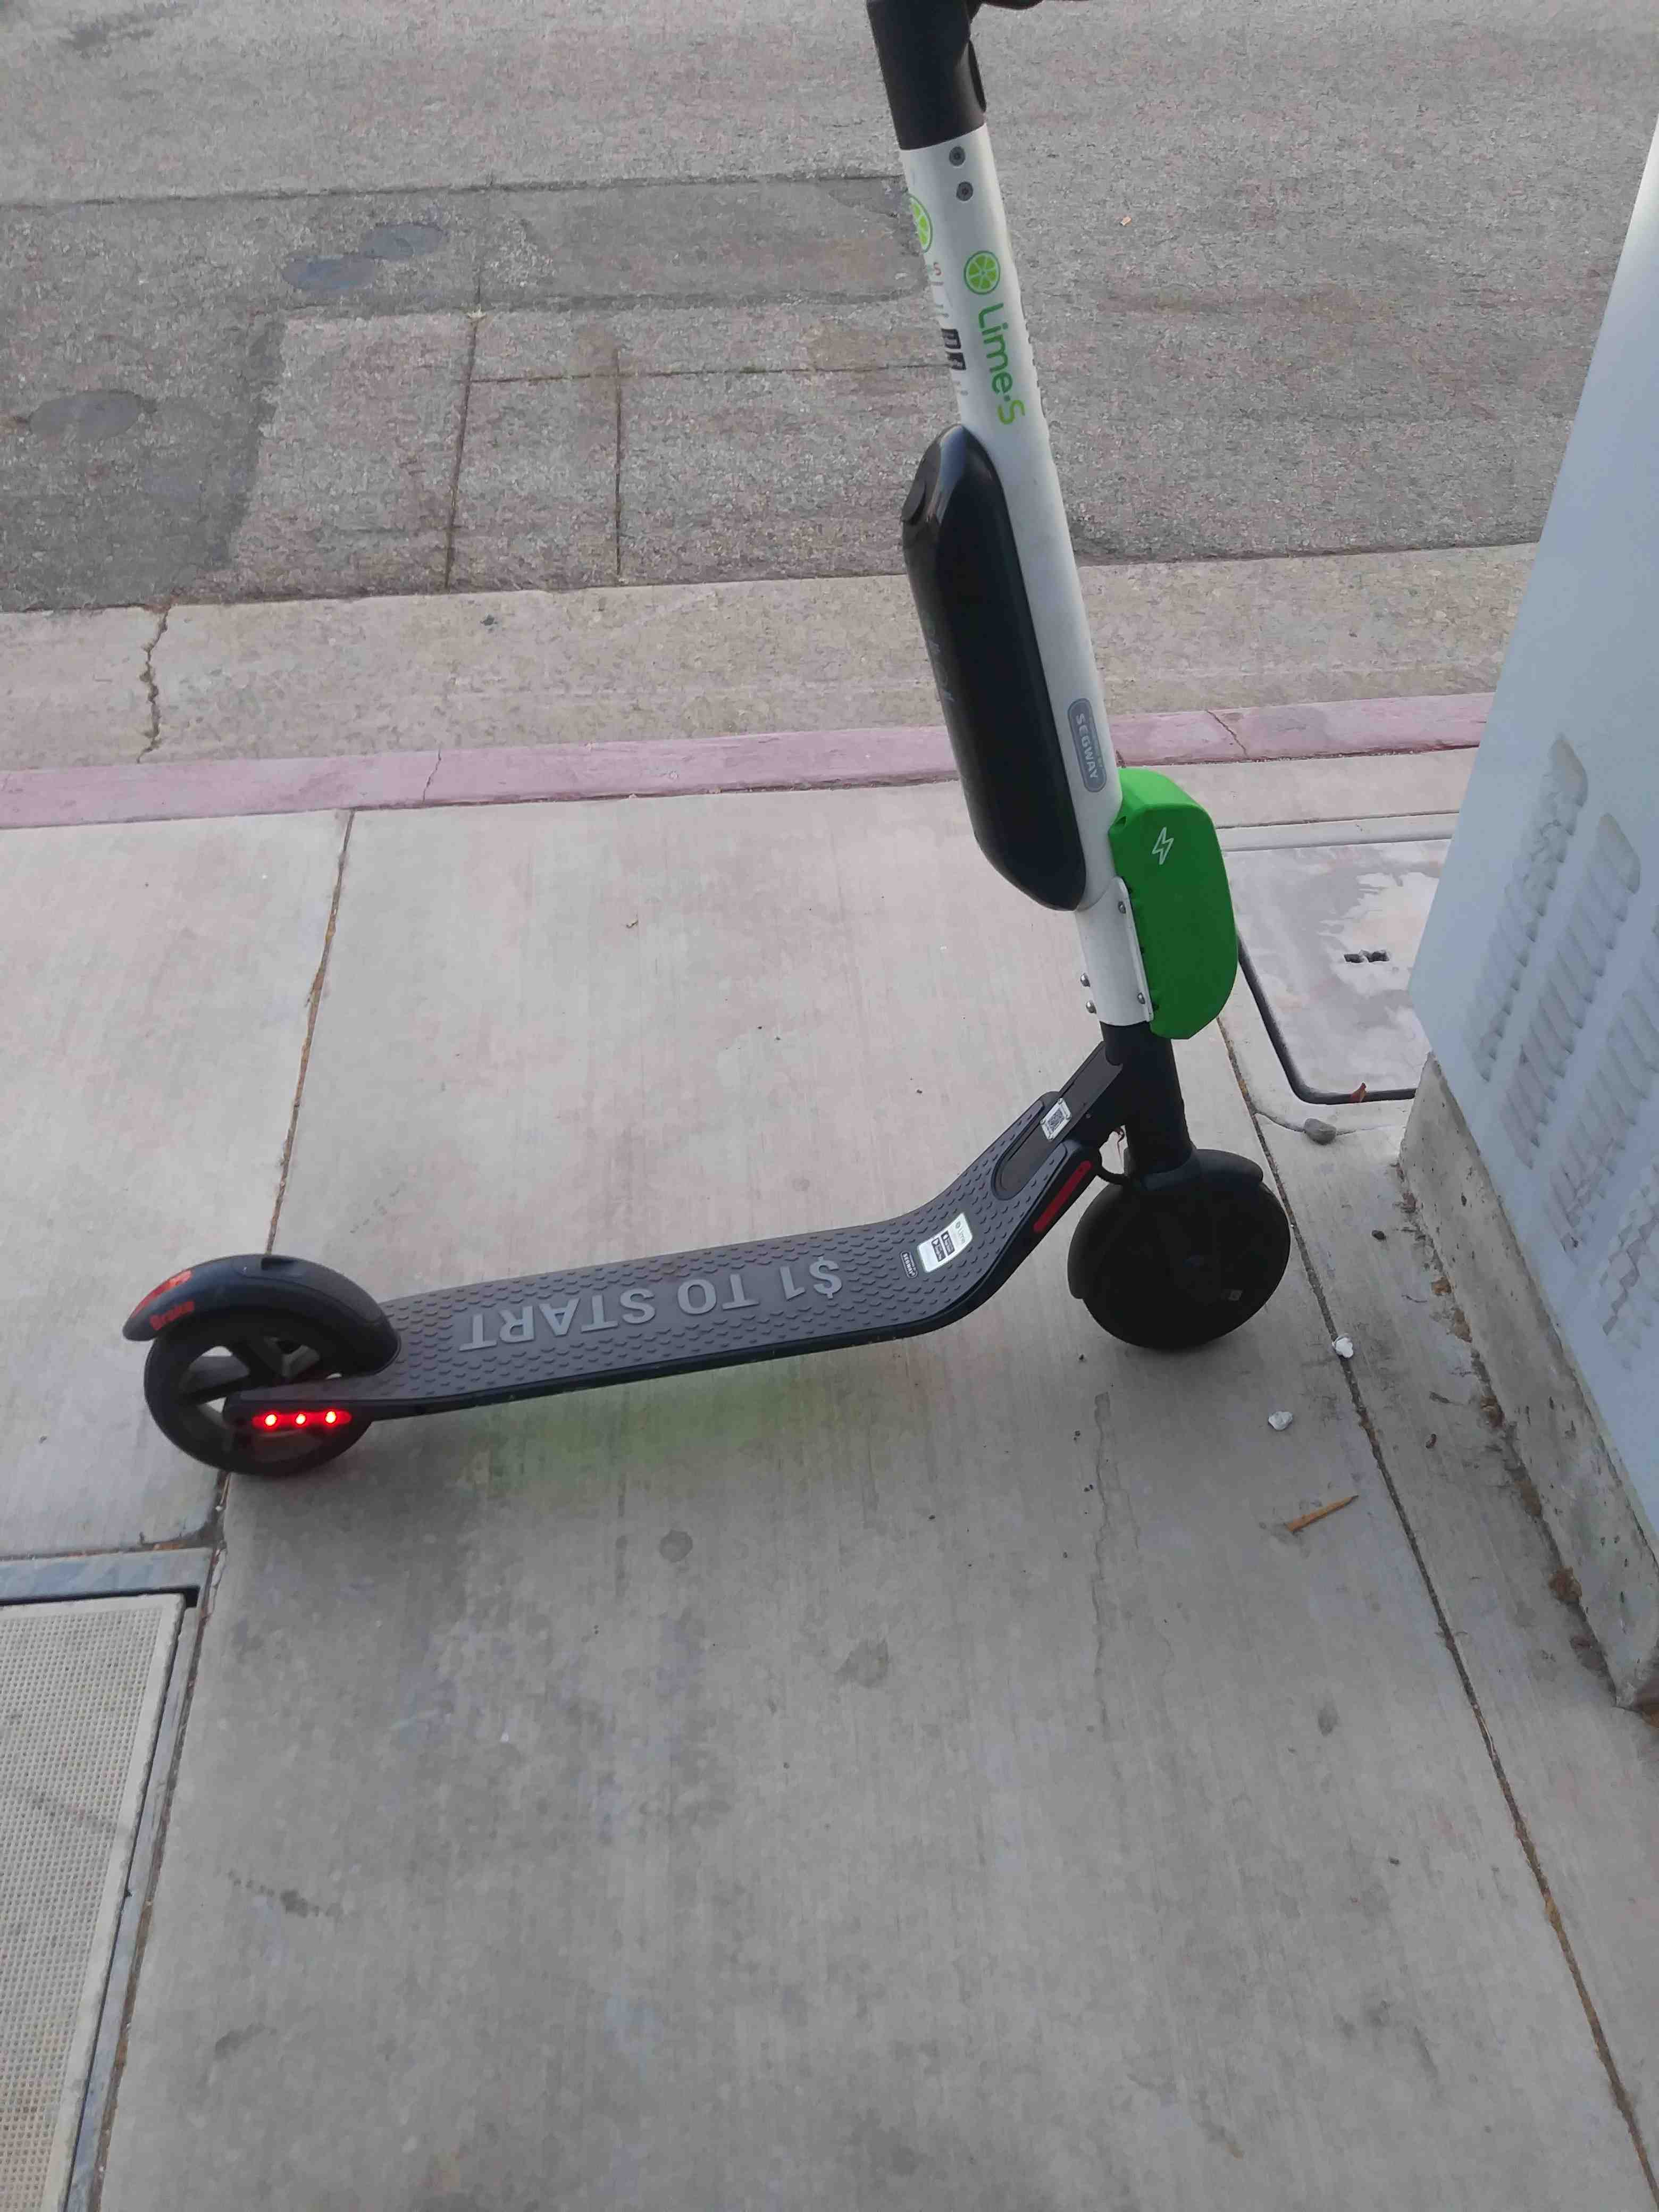scooter: (63, 0, 1366, 1521)
